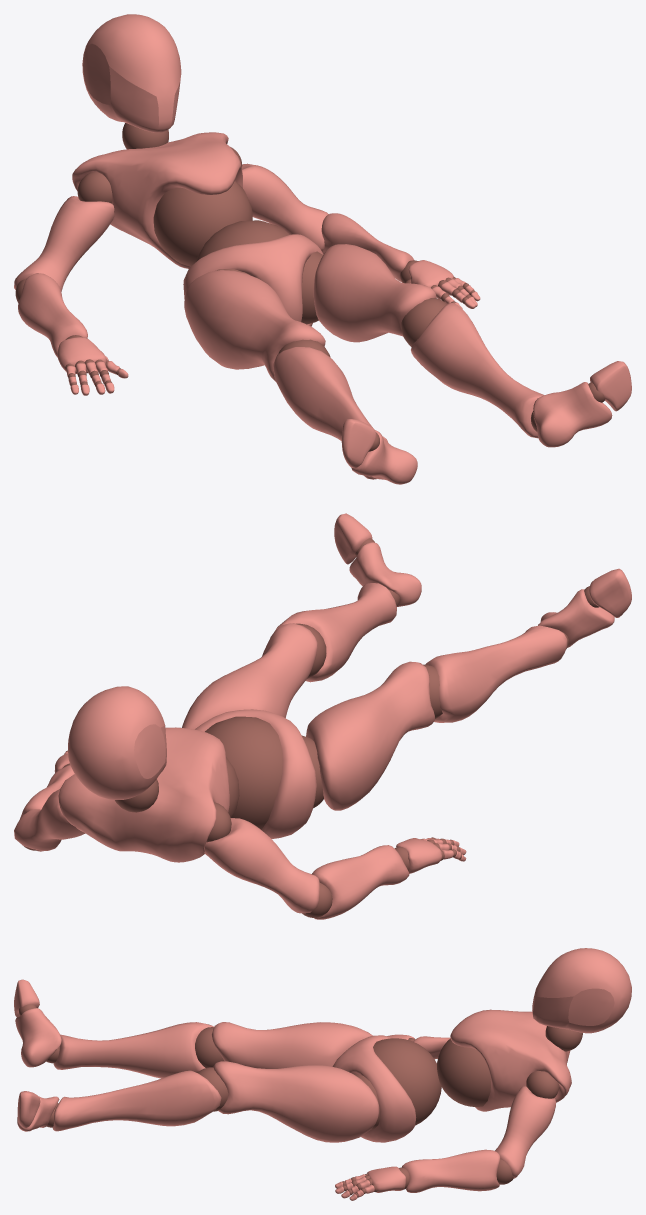
3 renders of one model, top to bottom at view 1: azimuth 30°, elevation 25°; view 2: azimuth 150°, elevation 25°; view 3: azimuth 270°, elevation 25°, orthographic. The views are drawn at different scales.
Parts seen in each view (by area): view 1: Beta_Surface, Beta_Joints; view 2: Beta_Surface, Beta_Joints; view 3: Beta_Surface, Beta_Joints.
Boxes of the visible parts, x1=… form: Beta_Surface: x1=14, y1=14, x2=631, y2=484; Beta_Joints: x1=15, y1=123, x2=605, y2=451; Beta_Surface: x1=14, y1=513, x2=631, y2=919; Beta_Joints: x1=24, y1=538, x2=598, y2=917; Beta_Surface: x1=14, y1=948, x2=631, y2=1200; Beta_Joints: x1=19, y1=1004, x2=582, y2=1197.
Bounding box in the file's own units: 100 × 56.07 × 169.
